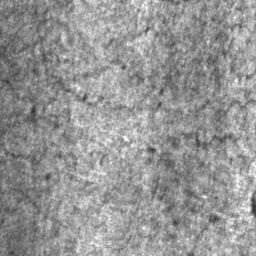Crazing: (0, 7, 256, 226), (70, 132, 256, 230), (186, 214, 221, 256), (111, 137, 133, 153), (250, 190, 256, 223), (223, 200, 229, 210)
